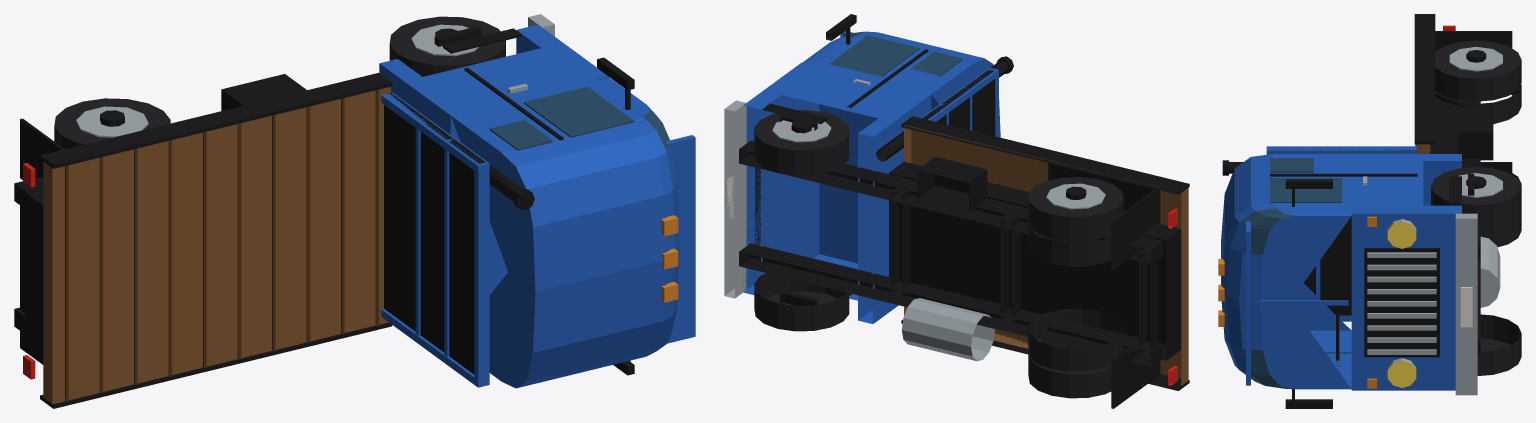
Rendered from empty.glb.
3 views of the same model, side by side, from view 1: azimuth 30°, elevation 25°; view 2: azimuth 150°, elevation 25°; view 3: azimuth 270°, elevation 25° (orthographic). The views are drawn at different scales.
Parts seen in each view (by area): view 1: empty_deck, empty_cab_upper, empty_headboard, empty_side1_-3.60_1.67_black, empty_cab_arch, empty_front1, empty_visor, empty_rear_out1, empty_headboard_top, empty_side_window1, empty_subframe, empty_cab_back (+20 smaller); view 2: empty_subframe, empty_cab_arch, empty_chassis-1, empty_deck, empty_cab_front, empty_cab_back, empty_chassis1, empty_rear_out1, empty_front1, empty_cab_upper, empty_fuel_tank, empty_bumper (+21 smaller); view 3: empty_cab_upper, empty_cab_front, empty_grille, empty_rear_out1, empty_bumper, empty_front1, empty_cab_arch, empty_side1_-3.60_1.67_black, empty_headboard, empty_front-1, empty_battery_box, empty_cab_back (+28 smaller).
Boxes of the visible parts, x1,y1,x2,y2 form: empty_deck: (43, 86, 390, 404); empty_cab_upper: (451, 78, 679, 388); empty_headboard: (384, 93, 485, 374); empty_side1_-3.60_1.67_black: (40, 73, 392, 168); empty_cab_arch: (423, 48, 587, 294); empty_front1: (389, 16, 505, 76); empty_visor: (666, 135, 695, 343); empty_rear_out1: (54, 98, 170, 149); empty_headboard_top: (474, 162, 489, 386); empty_side_window1: (524, 86, 634, 137); empty_subframe: (25, 188, 43, 352); empty_cab_back: (379, 59, 468, 141); empty_subframe: (889, 161, 1181, 360); empty_cab_arch: (781, 67, 915, 300); empty_chassis-1: (739, 243, 1163, 366); empty_deck: (904, 125, 1188, 385); empty_cab_front: (743, 62, 819, 294); empty_cab_back: (858, 90, 931, 323); empty_chassis1: (739, 140, 1163, 264); empty_rear_out1: (1028, 177, 1123, 241); empty_front1: (754, 110, 849, 175); empty_cab_upper: (802, 31, 1000, 137); empty_fuel_tank: (902, 298, 994, 361); empty_bumper: (724, 100, 746, 298); empty_cab_upper: (1221, 154, 1351, 389); empty_cab_front: (1351, 205, 1461, 390); empty_grille: (1364, 248, 1439, 357); empty_rear_out1: (1435, 40, 1521, 101); empty_bumper: (1455, 213, 1477, 395); empty_front1: (1431, 167, 1521, 228); empty_cab_arch: (1351, 161, 1423, 205); empty_side1_-3.60_1.67_black: (1414, 14, 1435, 144); empty_headboard: (1276, 148, 1415, 315); empty_front-1: (1477, 314, 1521, 375); empty_battery_box: (1458, 107, 1493, 160); empty_cab_back: (1351, 154, 1461, 205).
Size of the model in its own units: 7.61 by 3.98 by 4.82.
